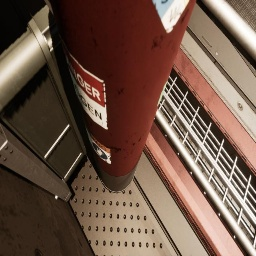NitrogenTank ,: (49, 0, 196, 193)
